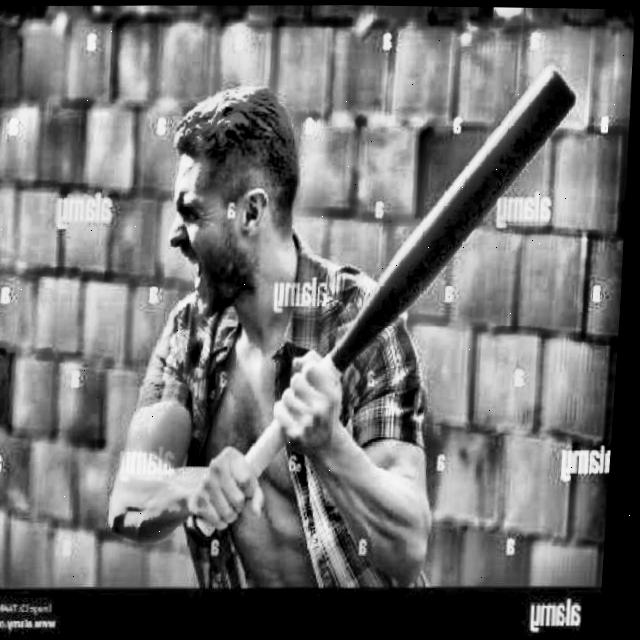tongkat pemukul: (166, 51, 600, 550)
